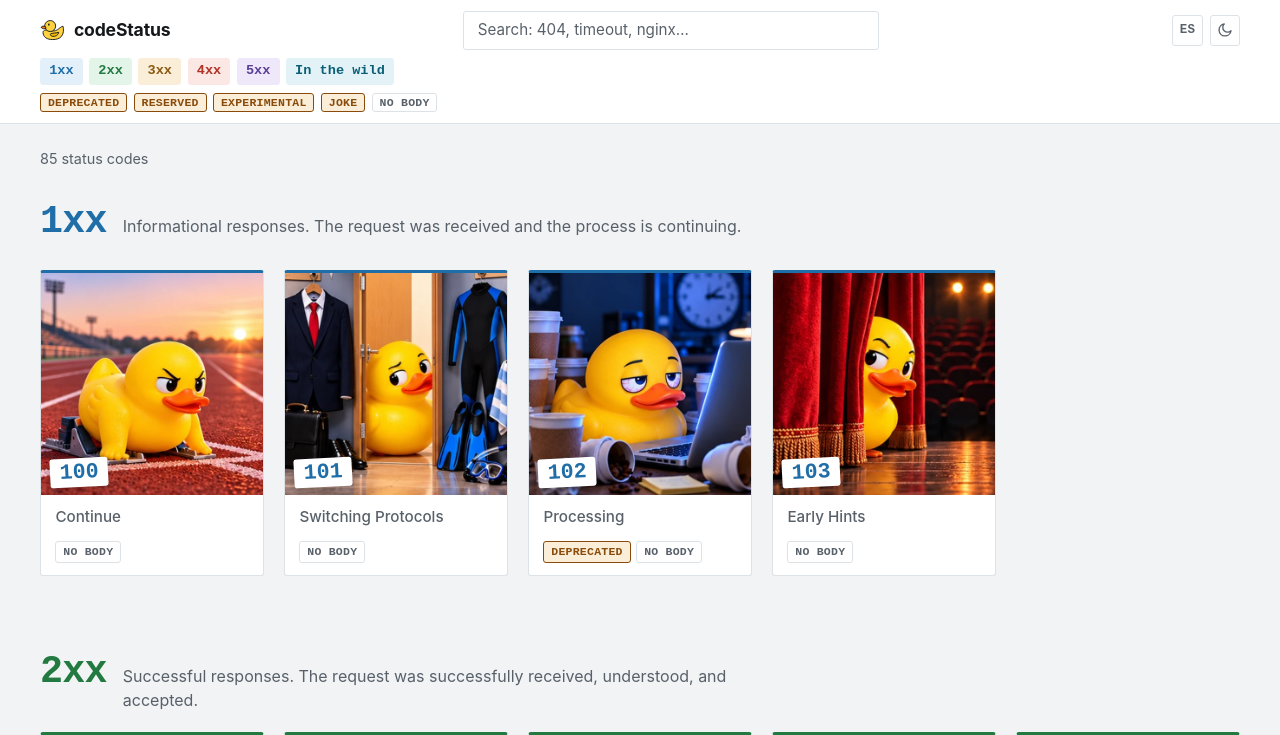
Test case: buscador › filtrar deja sólo lo que encaja
Type "teapot" into the search field named "search status codes" at (671, 30), box [463,11,879,50]
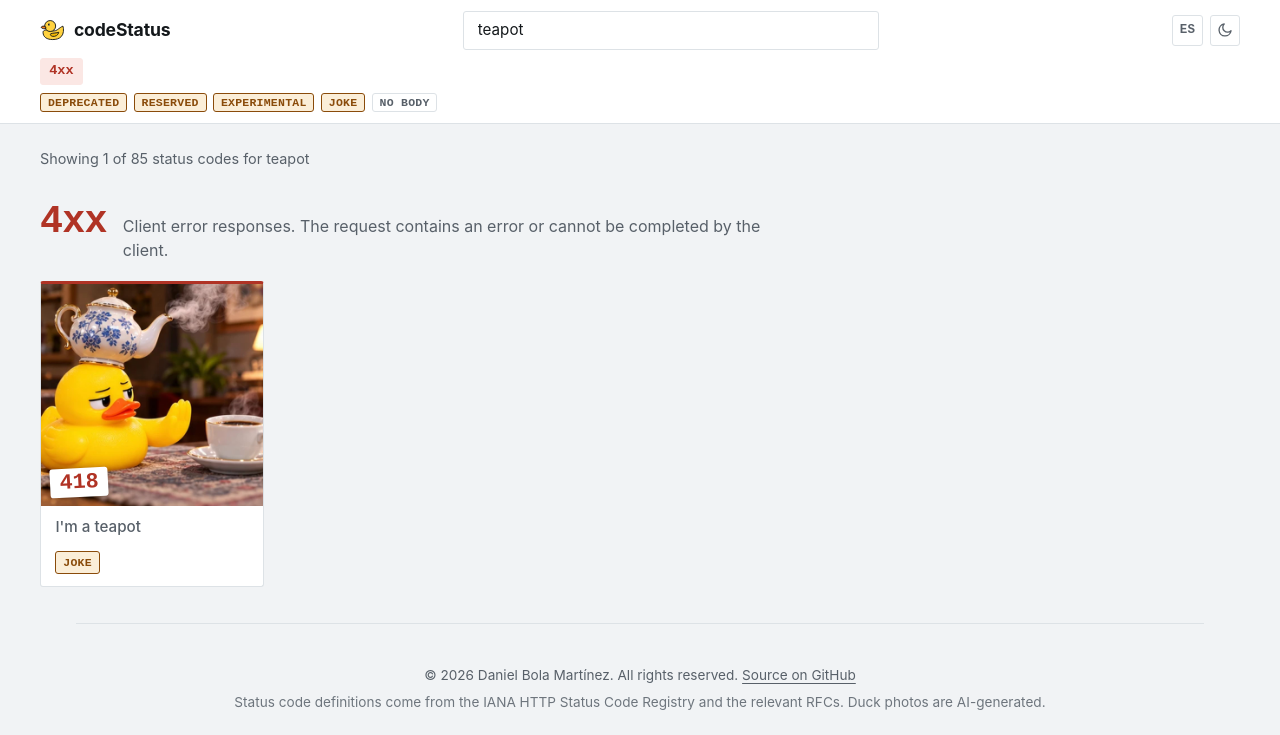
Expected: the heading "418" is shown, [49,467,109,499]
Result: the number of pictures is 1 at [41,284,263,506]
